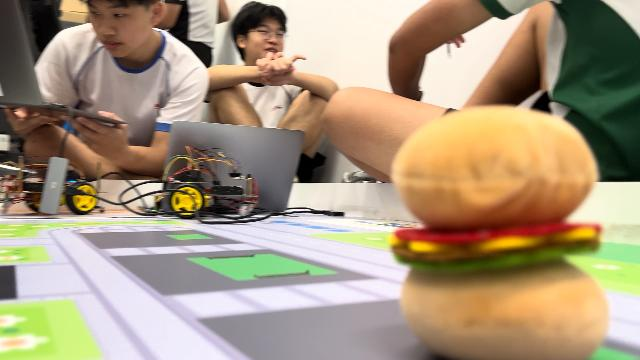burger: (385, 103, 611, 357)
